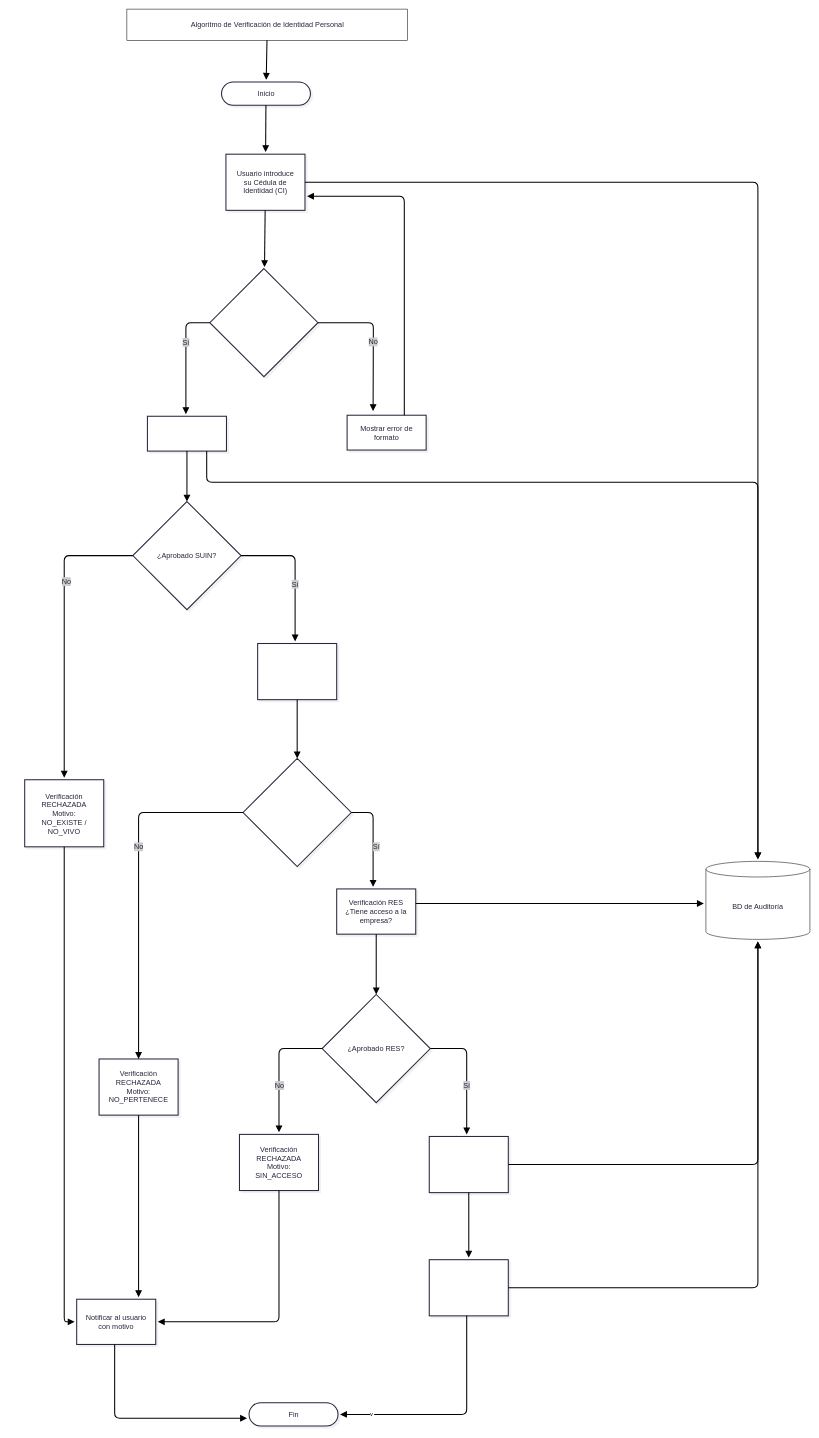
The diagram is 819 pixels wide and 1438 high, and some of its shapes have lost their labels. The shapes that lost their labels are listed below. From the top down, each one's centre as x and y in pixels, then its label:
At point (264, 323): "¿Formato de CI válido?".
At point (188, 434): "Verificación SUIN ¿Existe y está viva?".
At point (298, 672): "Verificación SIAC ¿Pertenece al centro de trabajo?".
At point (298, 813): "¿Aprobado SIAC?".
At point (469, 1165): "Verificación APROBADA Emitir credencial de identidad".
At point (469, 1288): "Acceso a la Plataforma de Identidad Digital".
